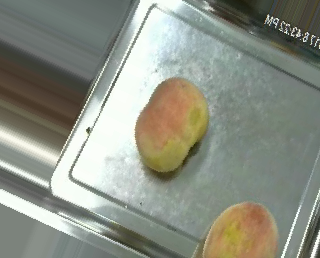Peach: (136, 75, 210, 173), (200, 200, 278, 258)
